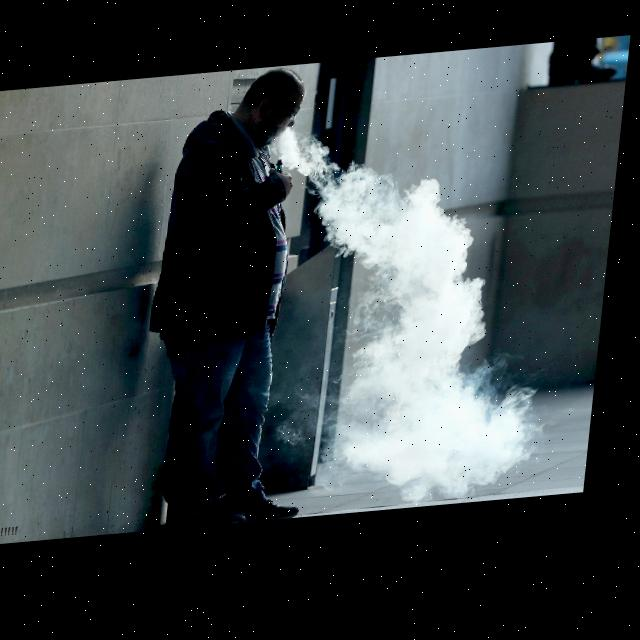vape: (280, 163, 289, 179)
